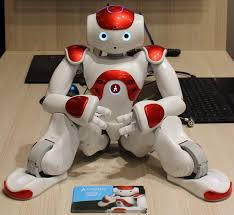nao: (4, 1, 234, 211)
